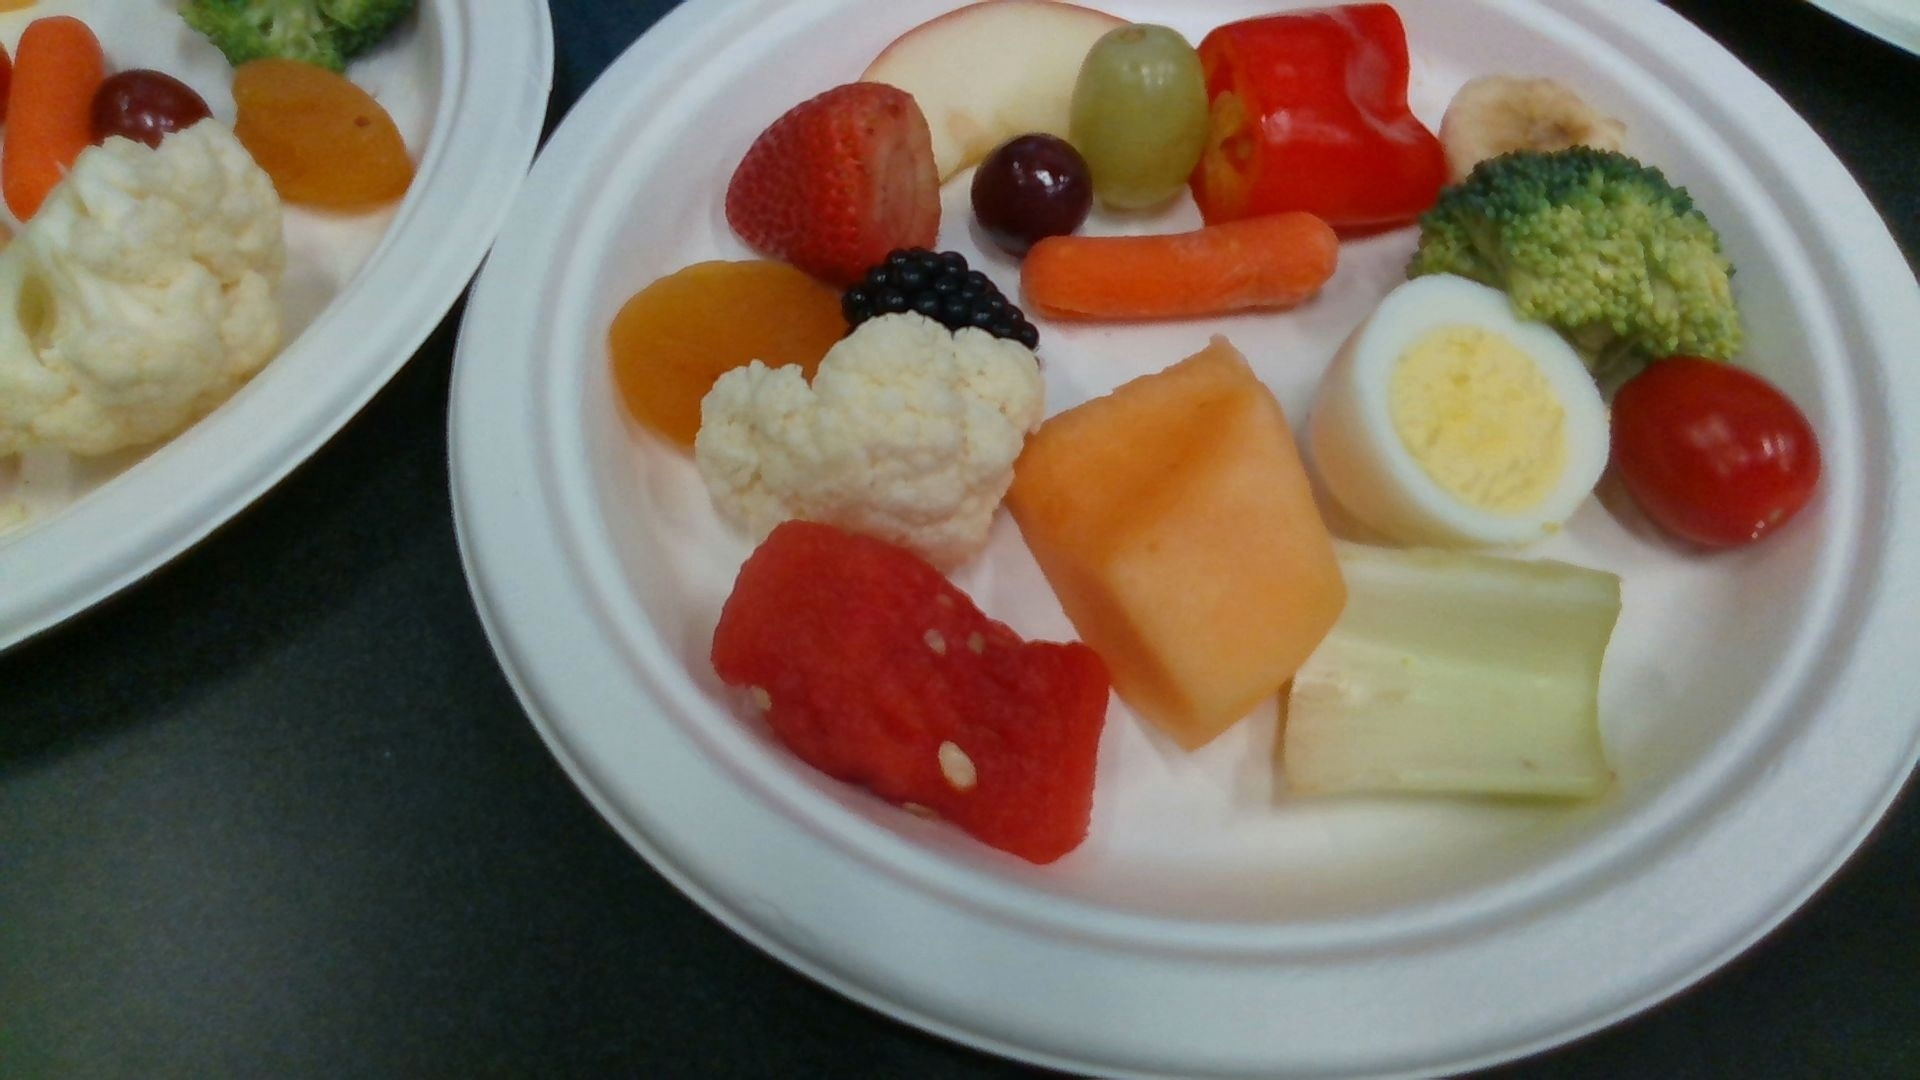apple: (858, 1, 1139, 179)
apricot: (611, 261, 852, 450), (232, 58, 415, 210)
banana: (1443, 75, 1633, 185)
bell_pepper: (1192, 5, 1447, 235)
blackberry: (849, 245, 1040, 348)
broccoli: (1408, 152, 1745, 360)
cantalope: (1005, 340, 1350, 750)
carrot: (1021, 210, 1338, 320), (1, 15, 100, 216)
cauliflower: (1, 117, 285, 458), (695, 311, 1044, 568)
celery: (1284, 541, 1625, 810)
cherry_tomato: (1611, 360, 1822, 550)
egg: (1309, 273, 1611, 543)
grape_green: (1077, 26, 1205, 208)
grape_purple: (975, 135, 1092, 243), (94, 70, 214, 148)
melon: (713, 525, 1112, 862)
strawberry: (724, 80, 939, 273)
